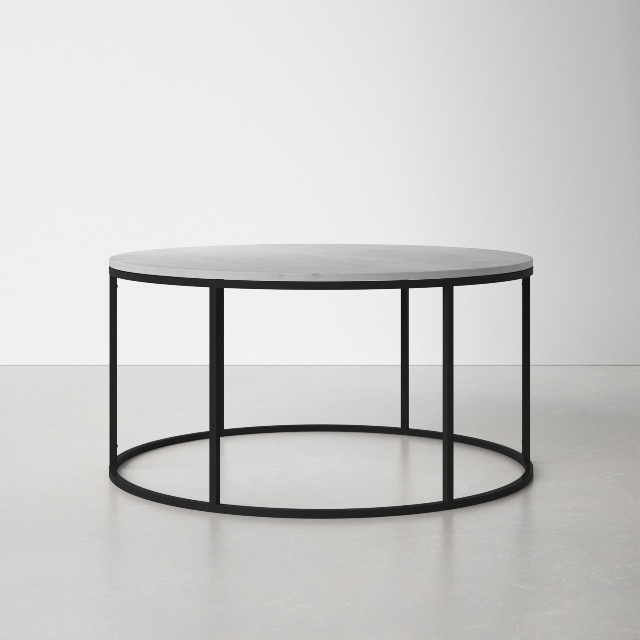obstacle: (109, 244, 533, 518)
